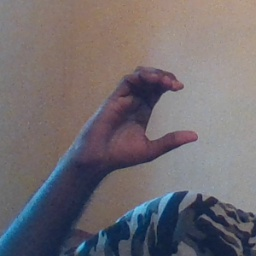C: (127, 64, 209, 163)
